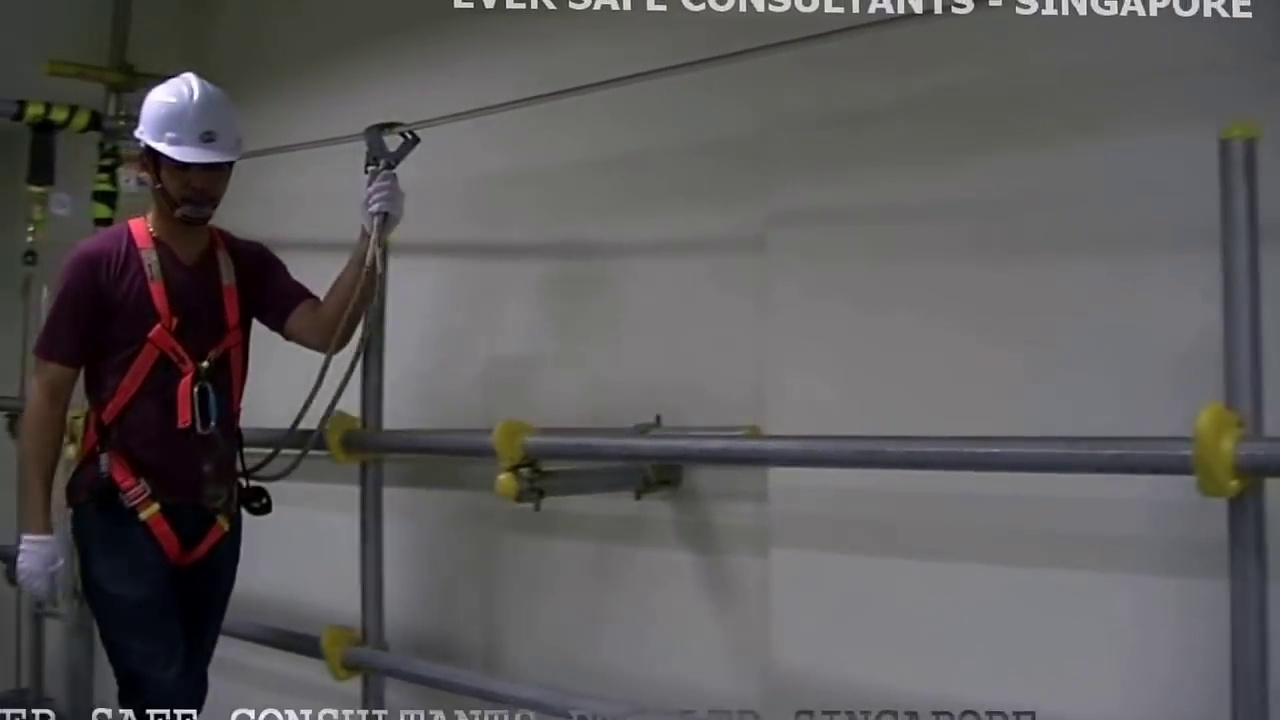harness: (88, 227, 248, 556)
helmet: (129, 72, 240, 166)
hook: (355, 108, 425, 169)
leash: (262, 239, 428, 491)
